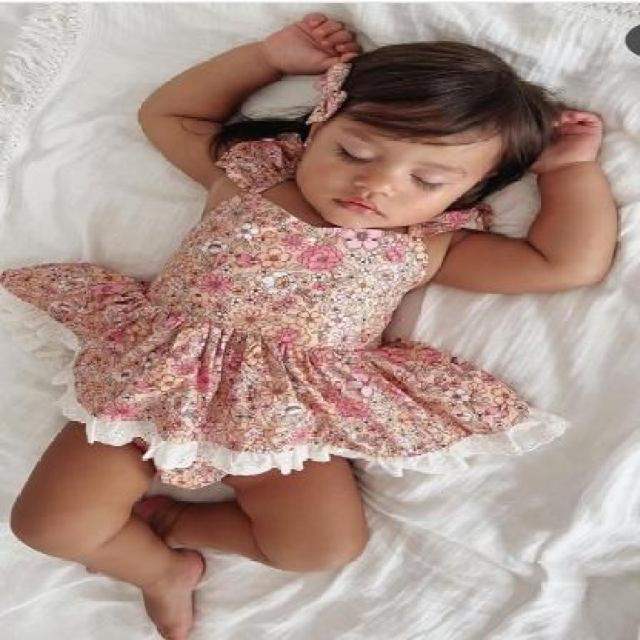baby: (9, 10, 617, 632)
